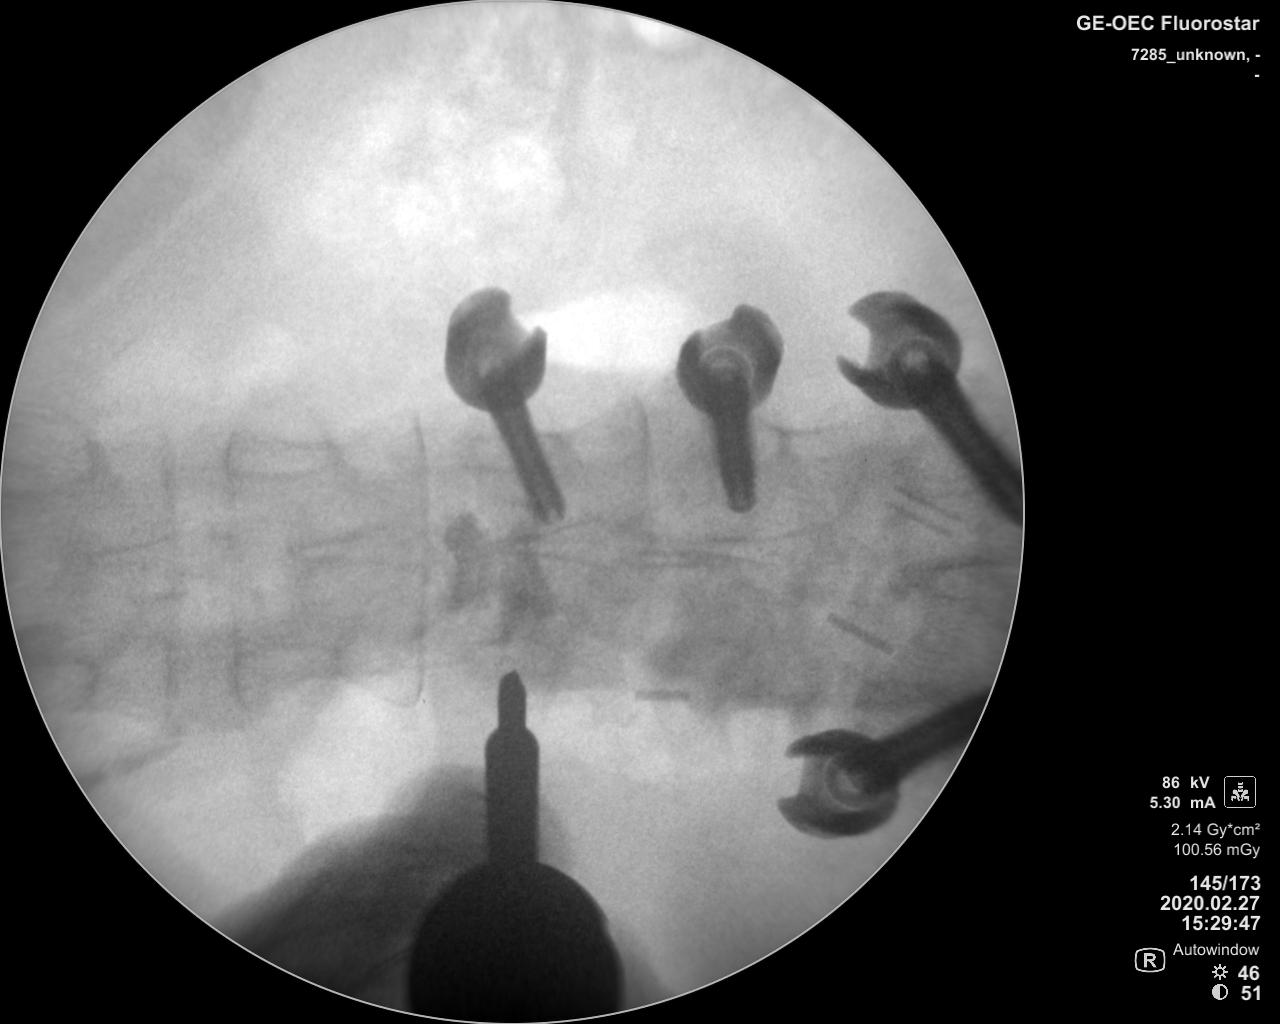eyes: (7, 416, 100, 497), (226, 642, 338, 705), (222, 428, 339, 480), (25, 655, 101, 714), (470, 636, 568, 681)
line: (152, 426, 188, 750), (214, 428, 245, 716), (401, 408, 429, 713)
nose: (76, 523, 240, 577), (290, 521, 440, 572), (499, 520, 658, 567)
